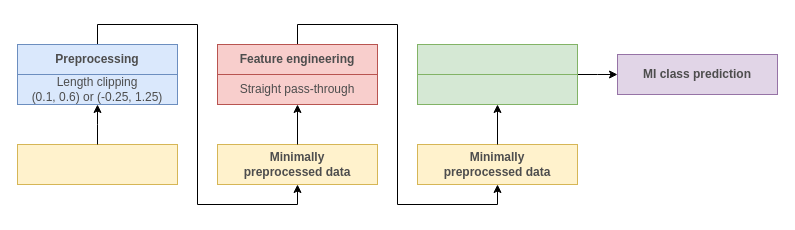
This 795x230 diagram has some shape labels left out. Each missing label, with the box of its shape:
Classification: (416, 44, 578, 74)
Optimized DL model: (416, 74, 578, 104)
Windowed data: (16, 144, 178, 184)
